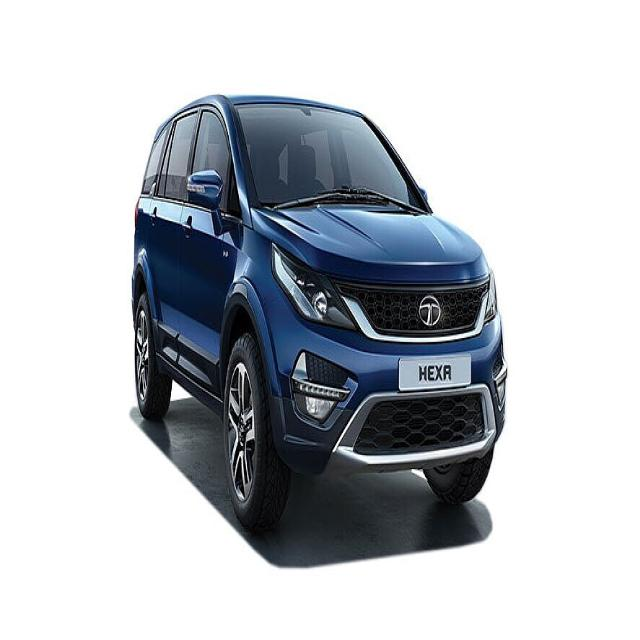Car: (122, 85, 510, 521)
